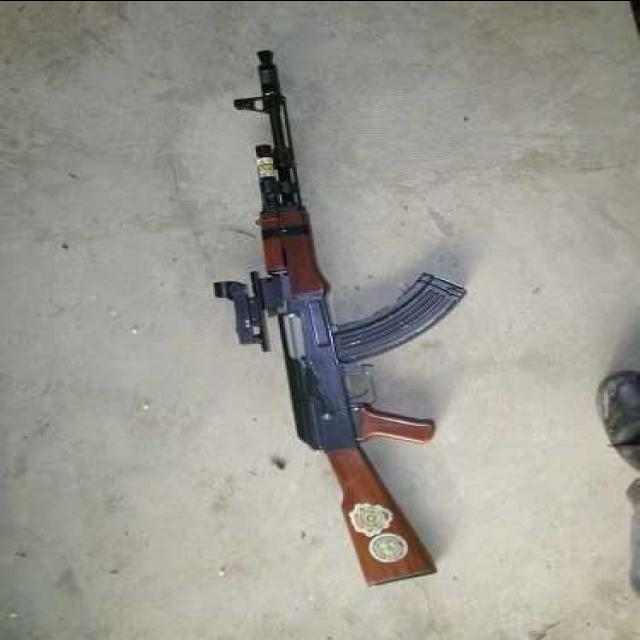heavyweapon: (163, 31, 481, 609)
